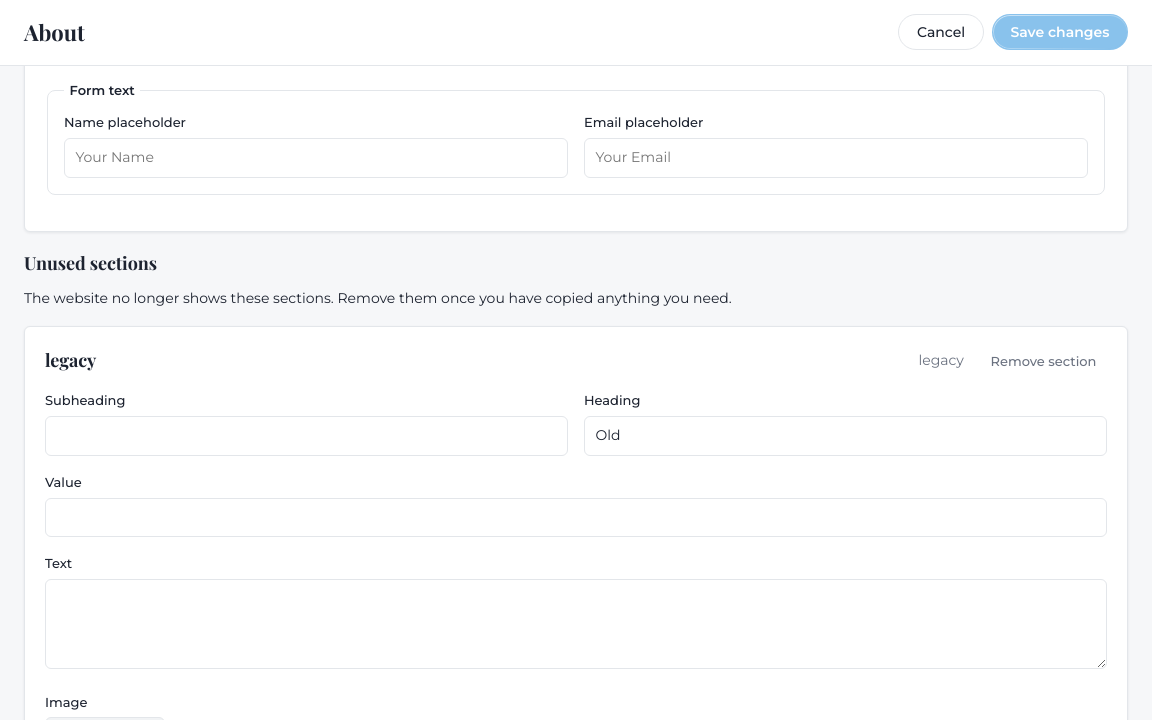
page editor built from blueprints › lists sections the website no longer uses separately, and lets them be removed
The width and height of the screenshot is (1152, 720).
(page scrolled)
Expected: the heading "Unused sections" is shown, [24,251,157,275]
Click the button "Remove section" at (1044, 361), box [980,347,1107,374]
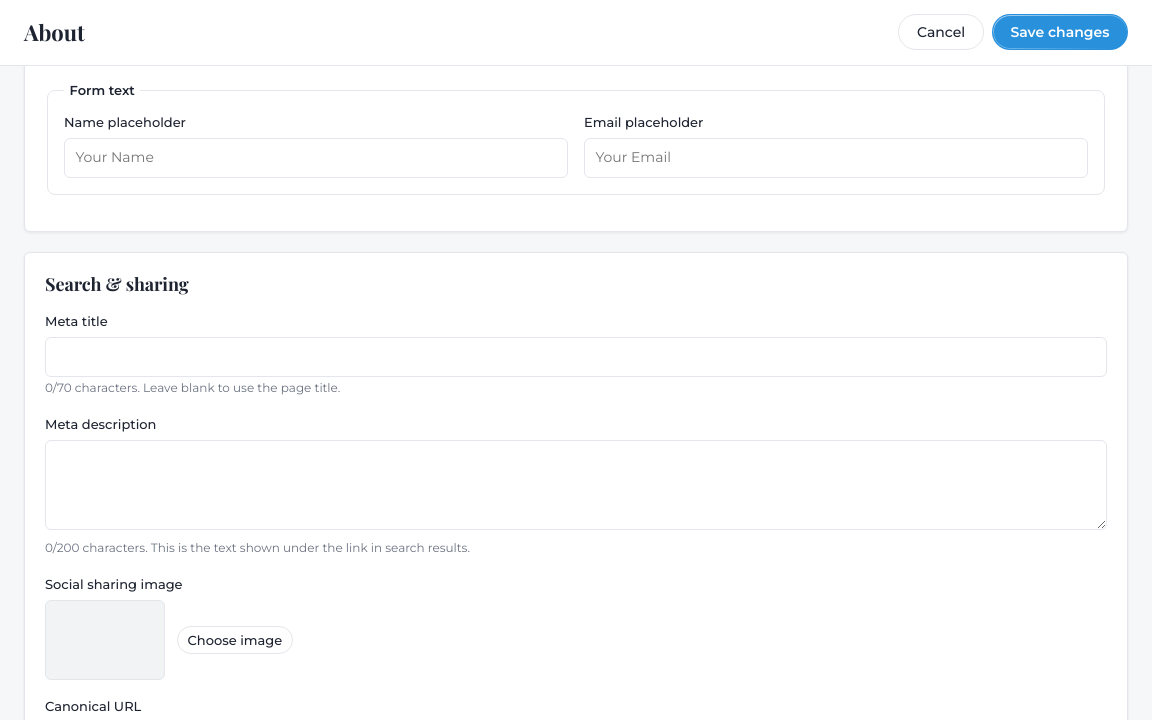
Now the heading "legacy" is gone
